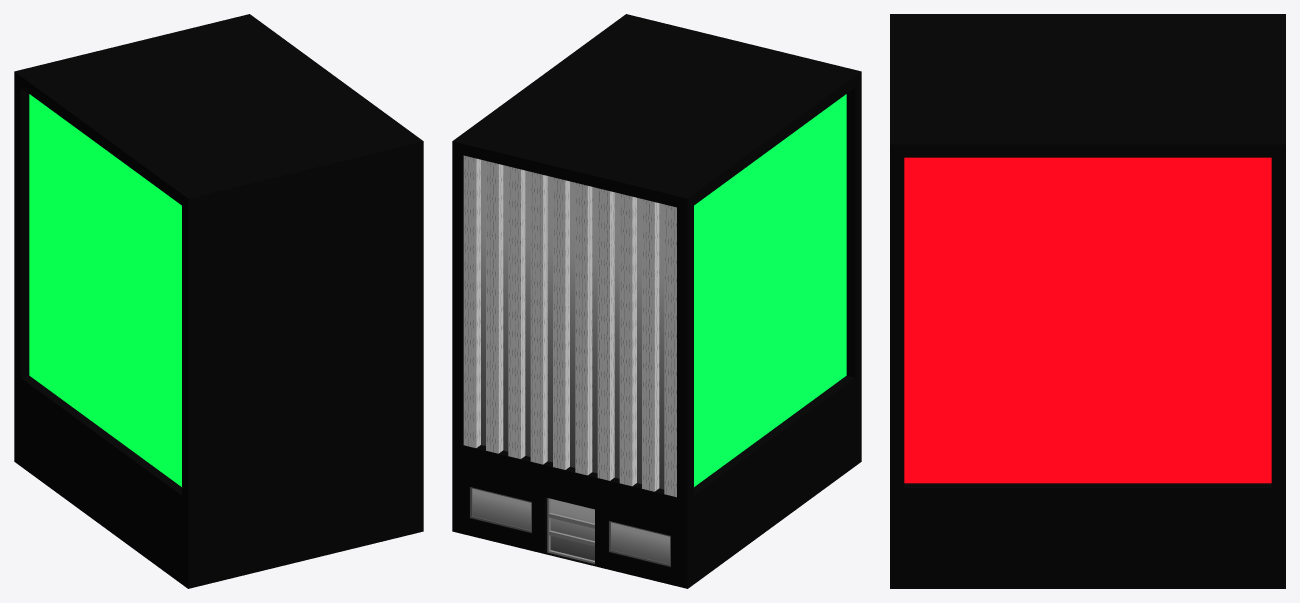
Rendered from PcCaseBuilding2.fbx.
3 views of the same model, side by side, from view 1: azimuth 30°, elevation 25°; view 2: azimuth 150°, elevation 25°; view 3: azimuth 270°, elevation 25° (orthographic). The views are drawn at different scales.
Parts seen in each view (by area): view 1: PcCaseBuilding2; view 2: PcCaseBuilding2; view 3: PcCaseBuilding2.
Part boxes in pixels (x1,y1,x2,y2): PcCaseBuilding2: [14, 14, 423, 588]; PcCaseBuilding2: [452, 14, 861, 588]; PcCaseBuilding2: [890, 14, 1285, 588].
Bounding box in the file's own units: 7.37 × 9.42 × 11.67.
8 materials, 3 textured.
